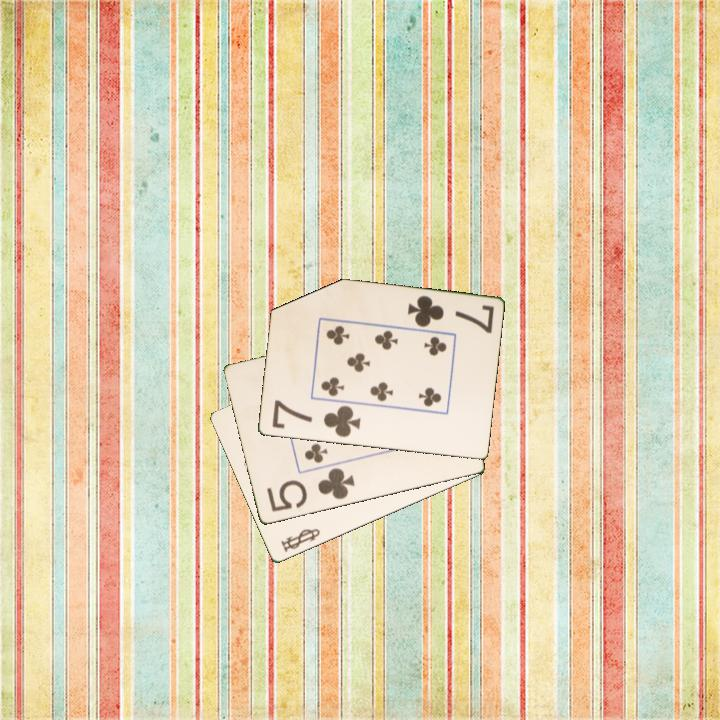5c: (263, 464, 358, 515)
7c: (268, 396, 363, 441), (404, 292, 497, 337)
JK: (277, 525, 323, 555)
